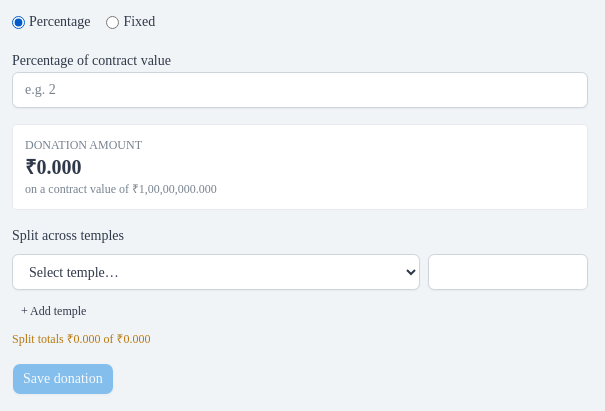
Test: ProjectDonationForm › DonationForm_PercentageBasis_ComputesAmount
The image size is (605, 411).
Type "2" into the field labelled "Percentage of contract value".
click(300, 90); type("2")  # box [12,72,588,108]
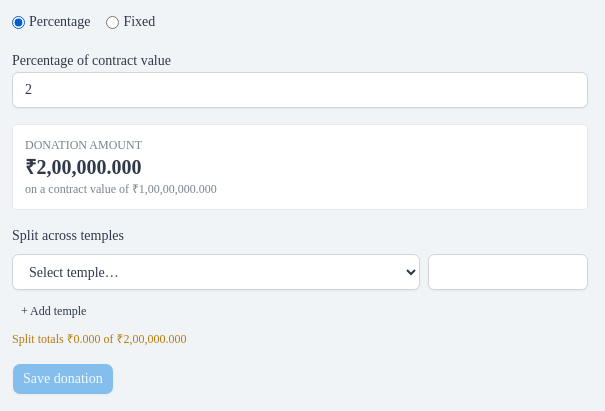
Expected: the text with test id "donation-amount" shows "₹2,00,000.00", [25,156,142,178]
